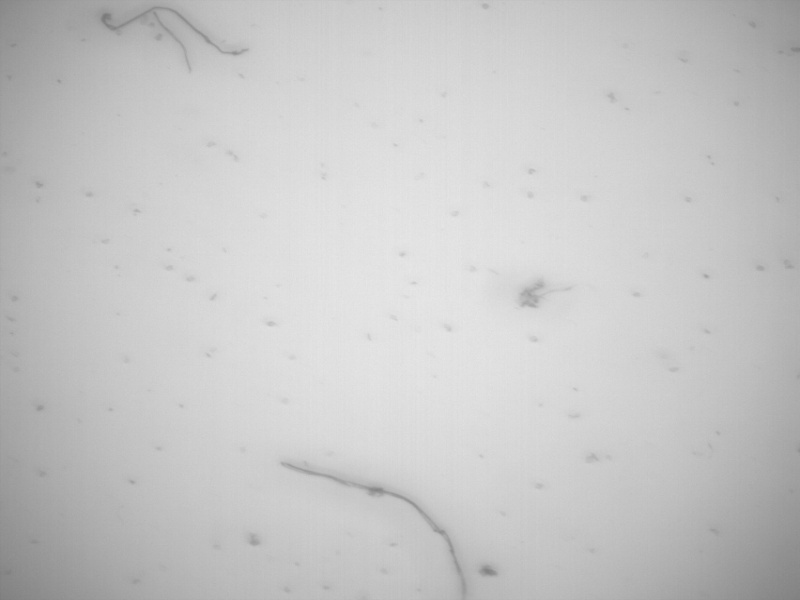fiber: (277, 457, 472, 597), (98, 4, 251, 57), (148, 7, 197, 77)
